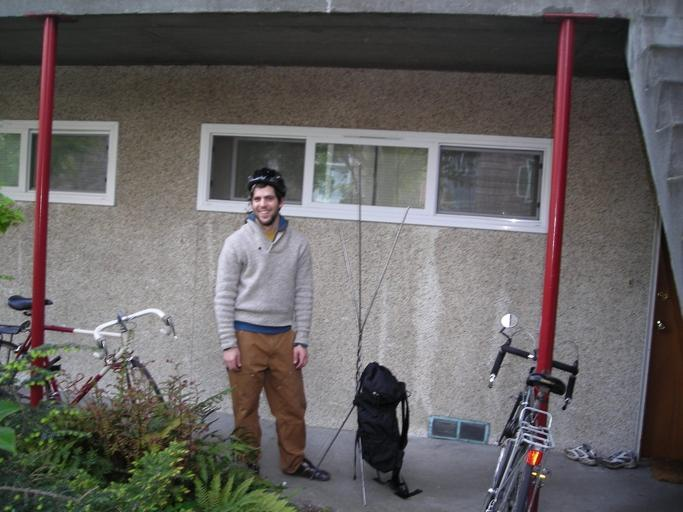non-vehicle: (0, 293, 177, 419), (478, 314, 580, 512)
